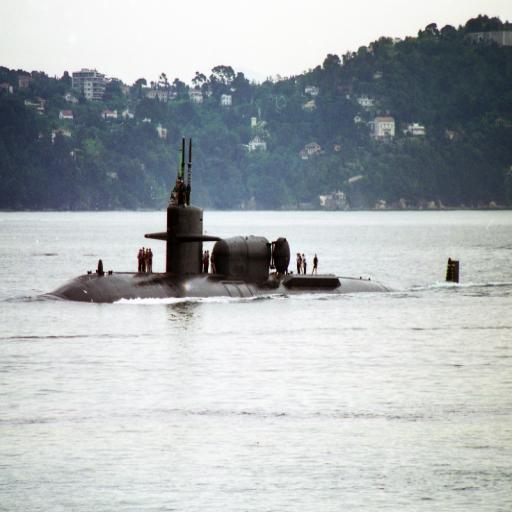submarine: (43, 127, 472, 302)
